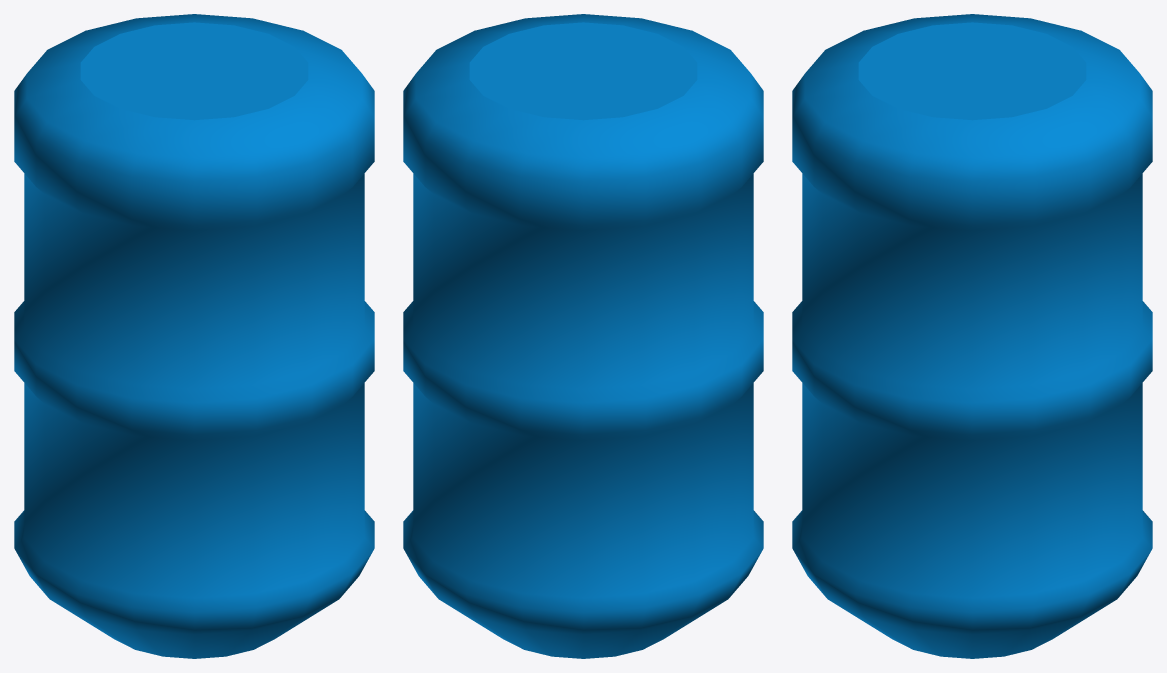
Rendered from water dispenser top.FBX.
The picture shows the model from 3 angles, left to right: view 1: azimuth 30°, elevation 25°; view 2: azimuth 150°, elevation 25°; view 3: azimuth 270°, elevation 25°; orthographic projection.
Visible parts, largest first — view 1: water dispenser top; view 2: water dispenser top; view 3: water dispenser top.
Boxes of the visible parts, left/top/right/bottom form: water dispenser top: left=14, top=14, right=374, bottom=658; water dispenser top: left=403, top=14, right=763, bottom=658; water dispenser top: left=792, top=14, right=1152, bottom=658.
Bounding box in the file's own units: 16 × 15.76 × 26.48.
